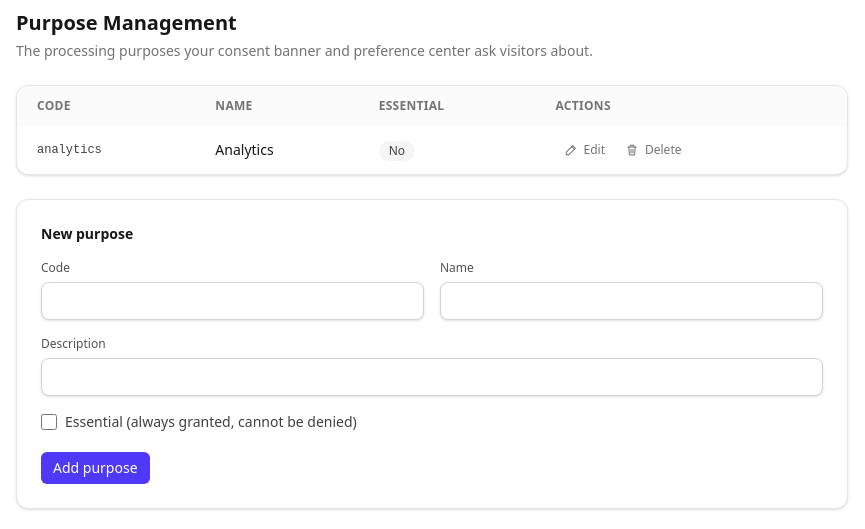
Test case: PurposeManagementPage › loads a purpose into the form for editing
Expected: the text "analytics" is shown, [17,126,199,174]
Click the button "Edit" at (584, 150), box [556,138,613,162]
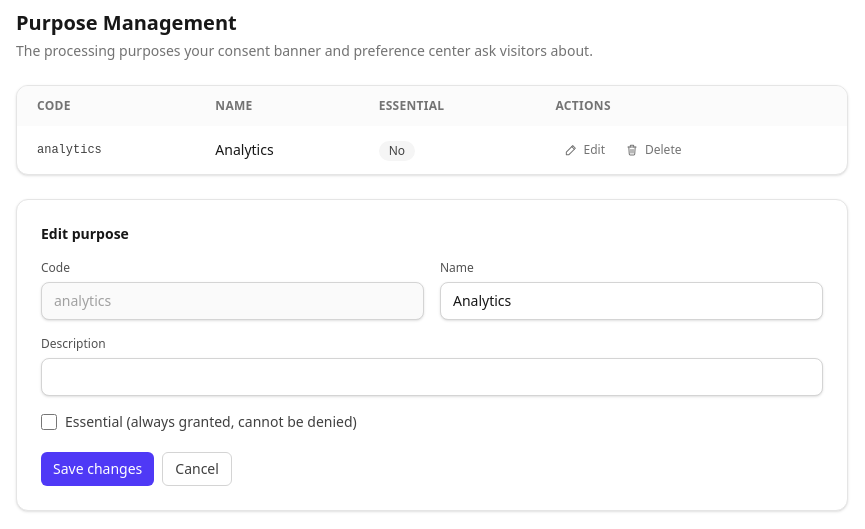
Expected: the field labelled "Code" holds "analytics", [41,282,424,320]
Expected: the button "Save changes" is shown, [41,452,154,486]
